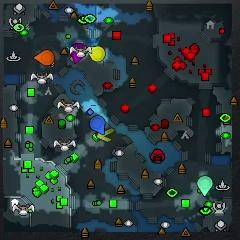p1: (90, 116, 105, 134)
p2: (198, 176, 211, 195)
p3: (70, 43, 86, 63)
p4: (87, 45, 105, 61)
p5: (34, 50, 54, 65)
x2: (97, 127, 113, 141)
